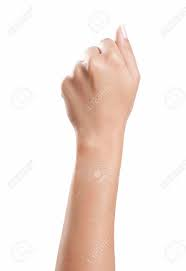fist: (61, 41, 145, 132)
